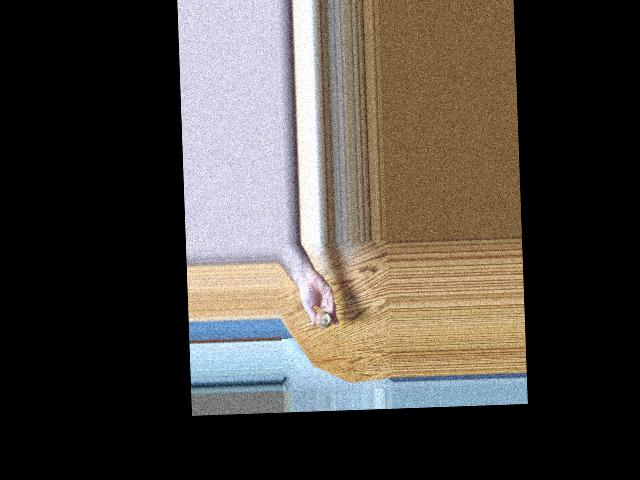sweet_potato: (312, 313, 331, 329)
